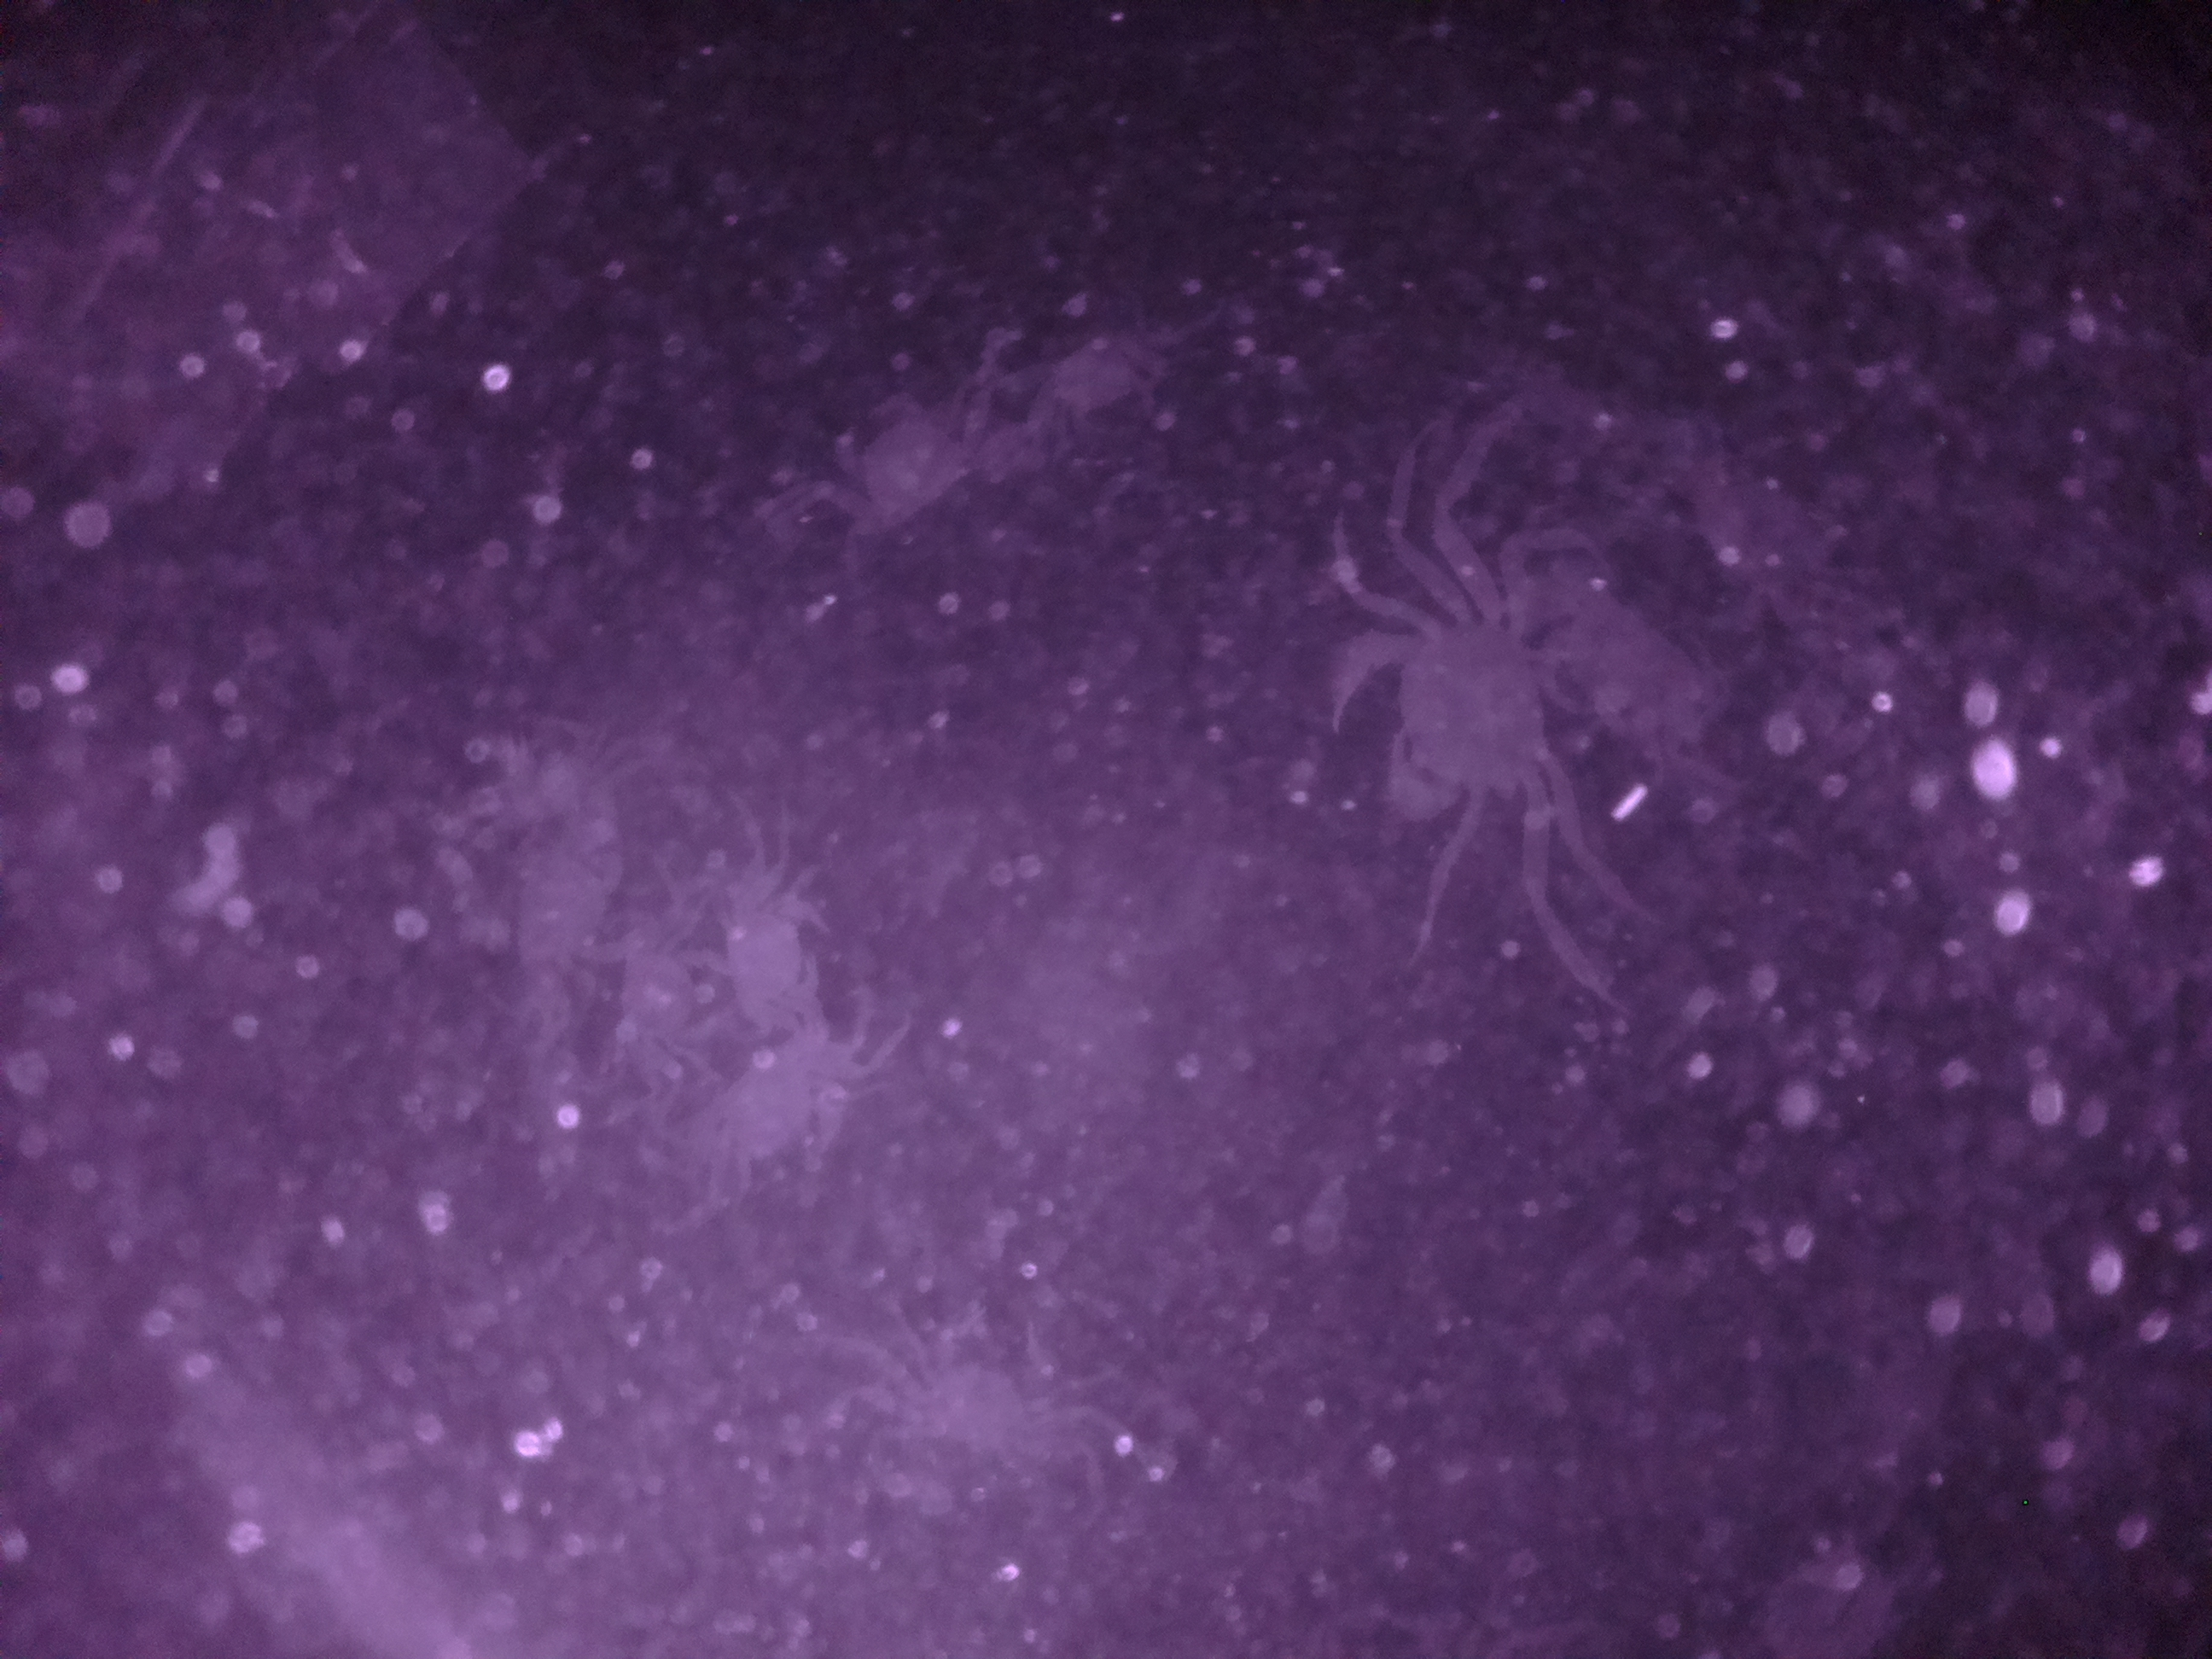Crab: (1318, 532, 1597, 880)
